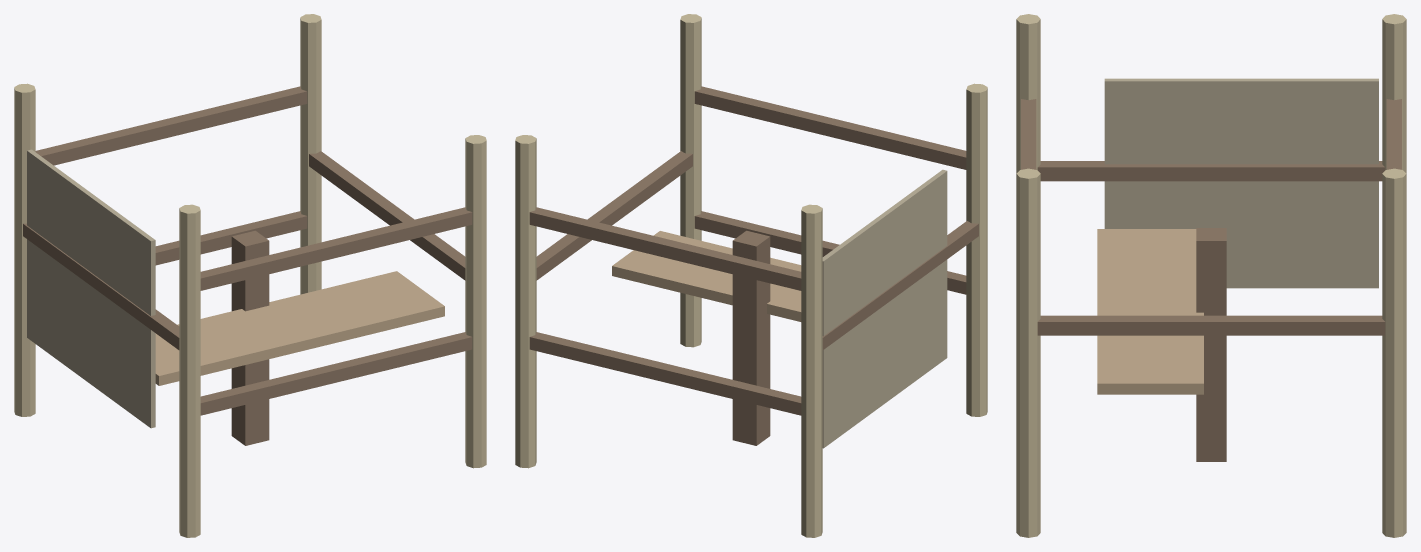
Rendered from building_scaffold.glb.
3 views of the same model, side by side, from view 1: azimuth 30°, elevation 25°; view 2: azimuth 150°, elevation 25°; view 3: azimuth 270°, elevation 25° (orthographic). The views are drawn at different scales.
Parts seen in each view (by area): view 1: Hemp_Mat, Plank1, Pole_FL, Pole_FR, Pole_BL, H_Brace_F2, H_Brace_F1, Pole_BR, H_Brace_B2, Frame_Post, H_Brace_R, H_Brace_L (+1 smaller); view 2: Hemp_Mat, Pole_BL, Pole_BR, Pole_FL, Frame_Post, Pole_FR, Plank1, H_Brace_F2, H_Brace_B2, H_Brace_B1, H_Brace_R, H_Brace_L (+1 smaller); view 3: Hemp_Mat, Plank1, Pole_BR, Pole_FR, H_Brace_R, H_Brace_L, Frame_Post, Pole_BL, Pole_FL, H_Brace_B2, H_Brace_F2.
Boxes of the visible parts, left/top/right/bottom form: Hemp_Mat: left=27, top=149, right=155, bottom=428; Plank1: left=155, top=271, right=444, bottom=385; Pole_FL: left=179, top=204, right=200, bottom=537; Pole_FR: left=465, top=135, right=486, bottom=468; Pole_BL: left=14, top=83, right=35, bottom=416; H_Brace_F2: left=200, top=207, right=472, bottom=290; H_Brace_F1: left=200, top=332, right=472, bottom=415; Pole_BR: left=300, top=14, right=321, bottom=294; H_Brace_B2: left=35, top=86, right=307, bottom=165; Frame_Post: left=231, top=230, right=269, bottom=445; H_Brace_R: left=309, top=151, right=465, bottom=280; H_Brace_L: left=23, top=223, right=179, bottom=349; Hemp_Mat: left=822, top=169, right=947, bottom=448; Pole_BL: left=801, top=204, right=822, bottom=537; Pole_BR: left=515, top=135, right=536, bottom=468; Pole_FL: left=966, top=83, right=987, bottom=416; Frame_Post: left=732, top=230, right=770, bottom=445; Pole_FR: left=680, top=14, right=701, bottom=347; Plank1: left=612, top=231, right=801, bottom=321; H_Brace_F2: left=694, top=86, right=966, bottom=169; H_Brace_B2: left=529, top=207, right=801, bottom=290; H_Brace_B1: left=529, top=332, right=801, bottom=415; H_Brace_R: left=536, top=151, right=692, bottom=280; H_Brace_L: left=822, top=221, right=978, bottom=349; Hemp_Mat: left=1104, top=78, right=1378, bottom=288; Plank1: left=1097, top=229, right=1203, bottom=394; Pole_BR: left=1382, top=168, right=1406, bottom=537; Pole_FR: left=1016, top=168, right=1040, bottom=537; H_Brace_R: left=1037, top=315, right=1385, bottom=335; H_Brace_L: left=1037, top=161, right=1385, bottom=181; Frame_Post: left=1196, top=228, right=1226, bottom=461; Pole_BL: left=1382, top=14, right=1406, bottom=173; Pole_FL: left=1016, top=14, right=1040, bottom=173; H_Brace_B2: left=1386, top=99, right=1401, bottom=169; H_Brace_F2: left=1021, top=99, right=1036, bottom=169.
Size of the model in its own units: 1.28 by 1.3 by 1.28.
